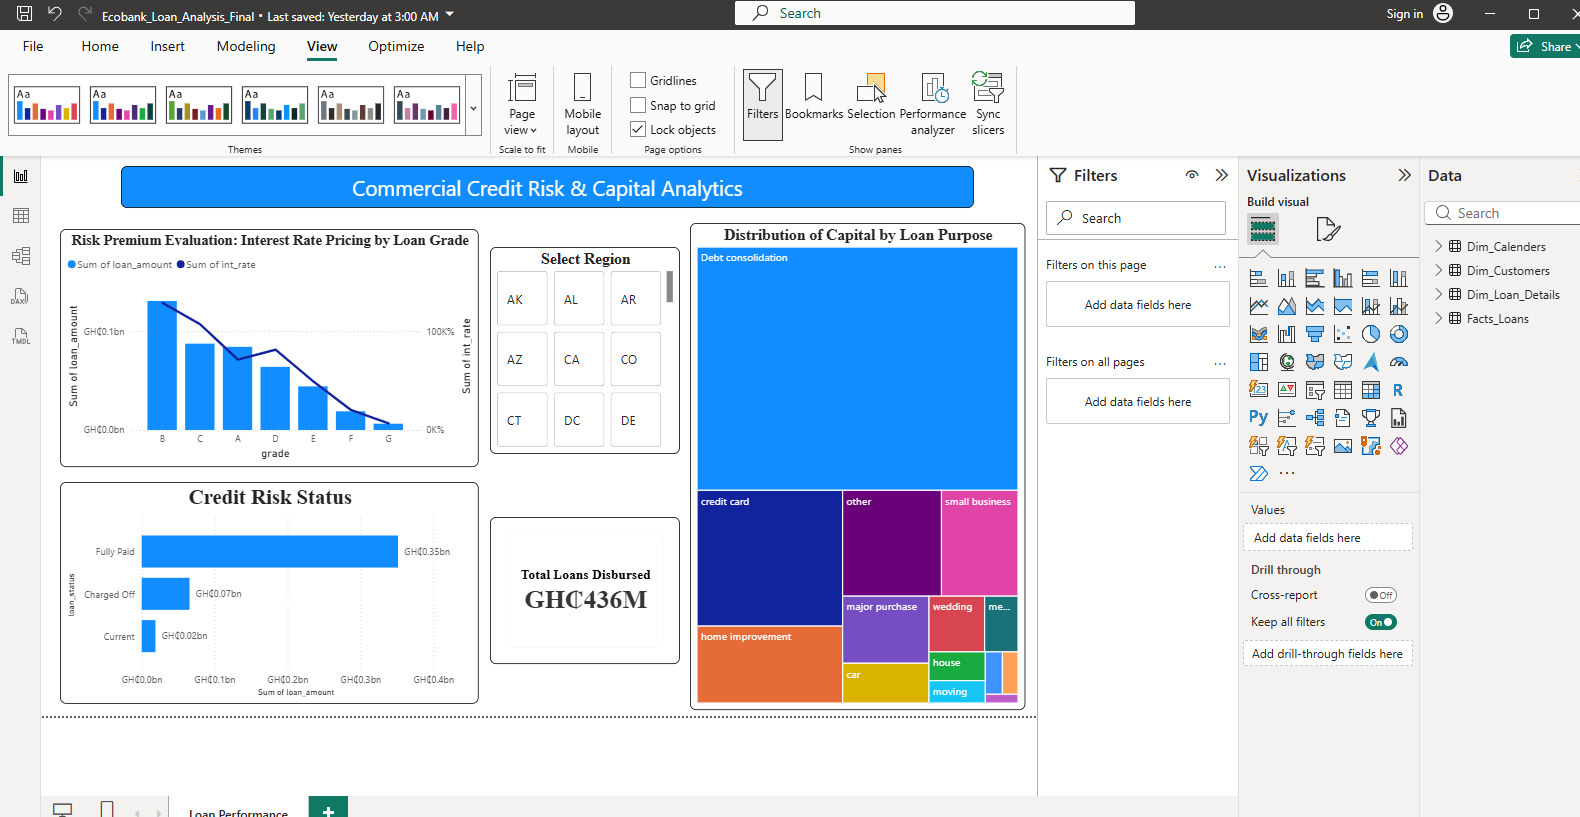

The dashboard page shown, as its layout file describes it:
{"tool":"powerbi","page":{"name":"Loan Performance","canvas":[1280,720],"ordinal":0},"visuals":[{"type":"cardVisual","fields":{"Data":["Sum(Facts_Loans.loan_amount)"]},"box":[577.3,463.7,244.2,189.4],"z":0},{"type":"clusteredBarChart","title":"Credit Risk Status","fields":{"Y":["Sum(Facts_Loans.loan_amount)"],"Category":["Facts_Loans.loan_status"]},"box":[24.8,419.3,538.1,284.7],"z":1},{"type":"advancedSlicerVisual","title":"Select Region","fields":{"Values":["Facts_Loans.address_state"]},"box":[577.3,117.6,244.2,266.4],"z":2},{"type":"treemap","title":"Distribution of Capital by Loan Purpose","fields":{"Group":["Dim_Loan_Details.purpose"],"Values":["Sum(Facts_Loans.loan_amount)"]},"box":[833.3,86.2,429.7,625.6],"z":3},{"type":"lineStackedColumnComboChart","title":"Risk Premium Evaluation: Interest Rate Pricing by Loan Grade","fields":{"Y":["Sum(Facts_Loans.loan_amount)"],"Y2":["Sum(Facts_Loans.int_rate)"],"Category":["Dim_Loan_Details.grade"]},"box":[24.8,94,538.1,305.6],"z":4},{"type":"textbox","box":[103.2,13.1,1096,54],"z":5}]}

Visuals, with their boxes on the page's 1280x720 design canvas (x1, y1, x2, y2). These are canvas units, not pixel positions in the 1580x817 screenshot, which may show the page scaled, cropped or inside an application window:
cardVisual - Sum(Facts_Loans.loan_amount): box(577, 464, 822, 653)
"Credit Risk Status" clusteredBarChart: box(25, 419, 563, 704)
"Select Region" advancedSlicerVisual: box(577, 118, 822, 384)
"Distribution of Capital by Loan Purpose" treemap: box(833, 86, 1263, 712)
"Risk Premium Evaluation: Interest Rate Pricing by Loan Grade" lineStackedColumnComboChart: box(25, 94, 563, 400)
textbox: box(103, 13, 1199, 67)
